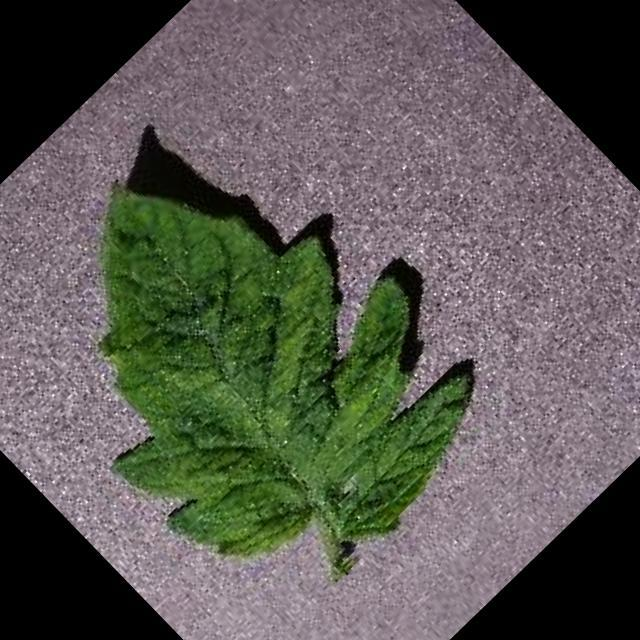Tomato mosaic virus leaf: (0, 86, 520, 640)
